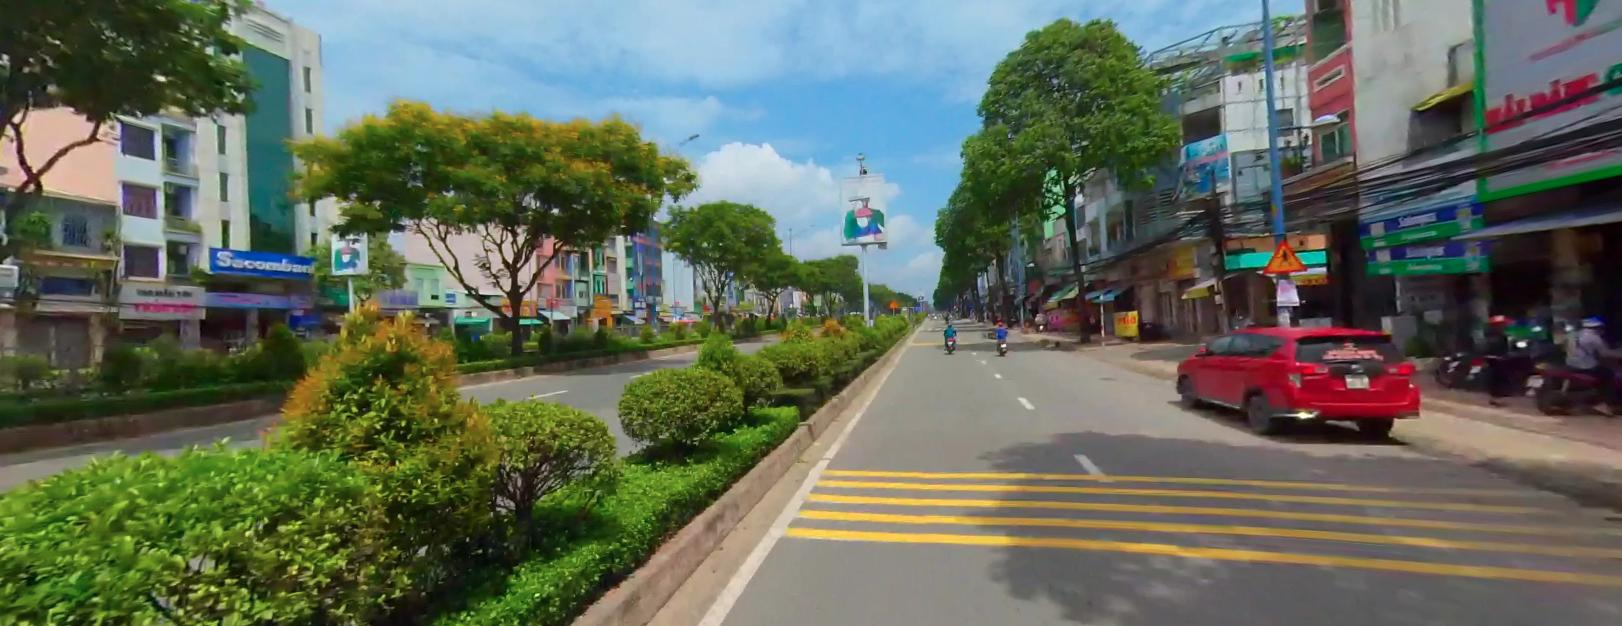Nguy hiem: (1261, 239, 1309, 272), (889, 298, 900, 308)
